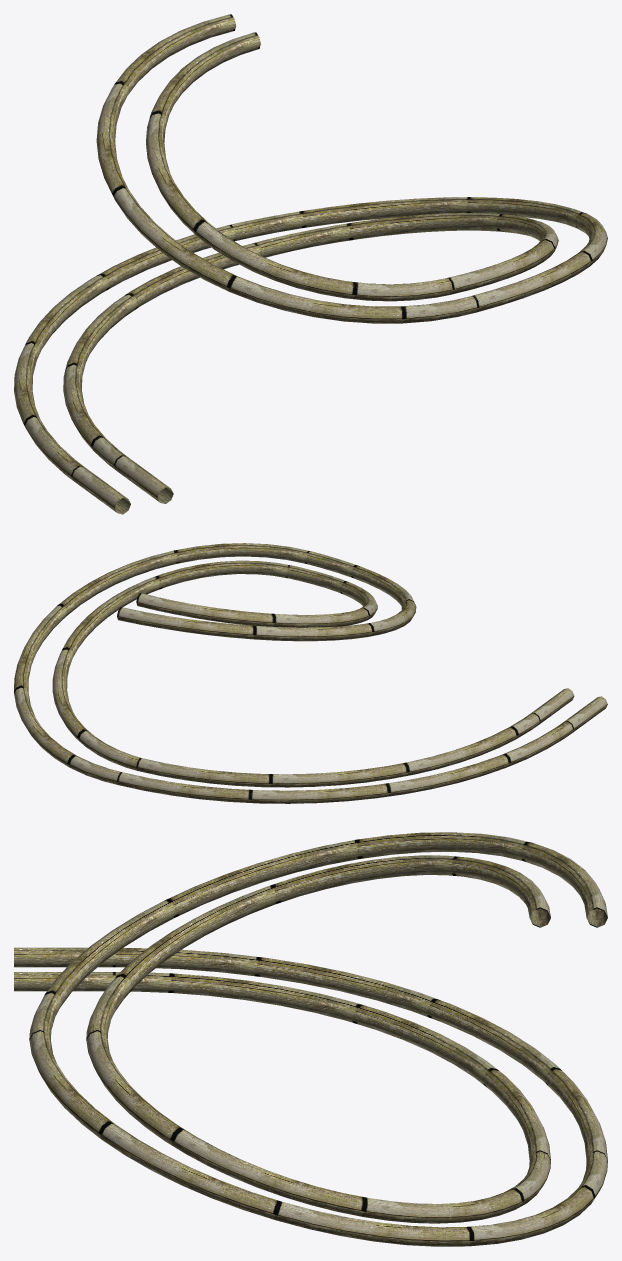
File: ROTATE.fbx
3 views of the same model, one above another, from view 1: azimuth 30°, elevation 25°; view 2: azimuth 150°, elevation 25°; view 3: azimuth 270°, elevation 25° (orthographic). The views are drawn at different scales.
Parts seen in each view (by area): view 1: pipe__1_; view 2: pipe__1_; view 3: pipe__1_.
Part boxes in pixels (x1=…): pipe__1_: x1=14, y1=14, x2=607, y2=514; pipe__1_: x1=14, y1=543, x2=607, y2=803; pipe__1_: x1=14, y1=832, x2=607, y2=1246.
Bounding box in the file's own units: 777 × 285 × 584.
